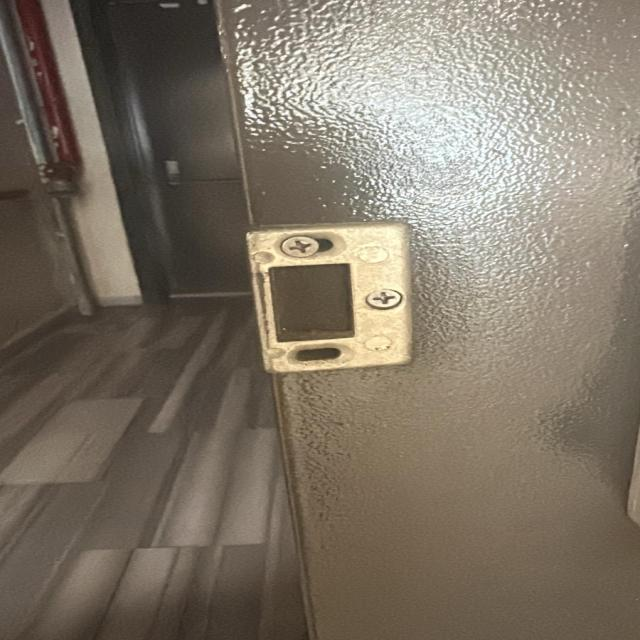Phillips: (275, 236, 317, 258), (363, 288, 402, 309)
